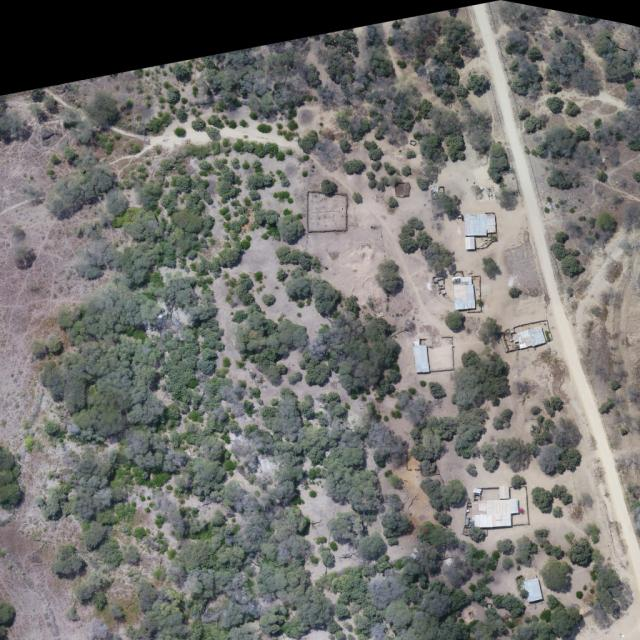aerial-img: (0, 0, 493, 95)
building: (469, 486, 529, 529), (512, 325, 546, 351), (464, 212, 497, 237), (454, 278, 476, 310), (412, 343, 431, 374), (465, 236, 477, 251)
greenland: (0, 2, 639, 640)
